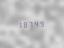eight: (23, 20, 27, 28)
four: (33, 19, 37, 27)
nine: (38, 19, 42, 27)
one: (18, 20, 22, 28)
seven: (28, 20, 32, 27)
